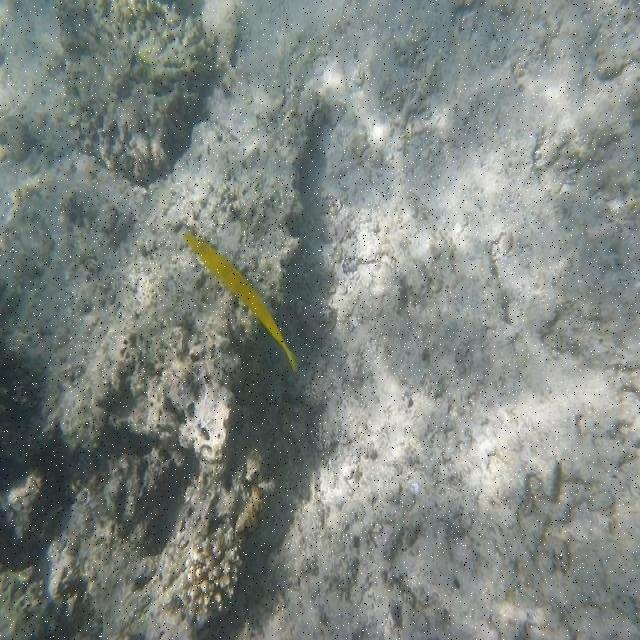fish: (183, 233, 300, 374)
